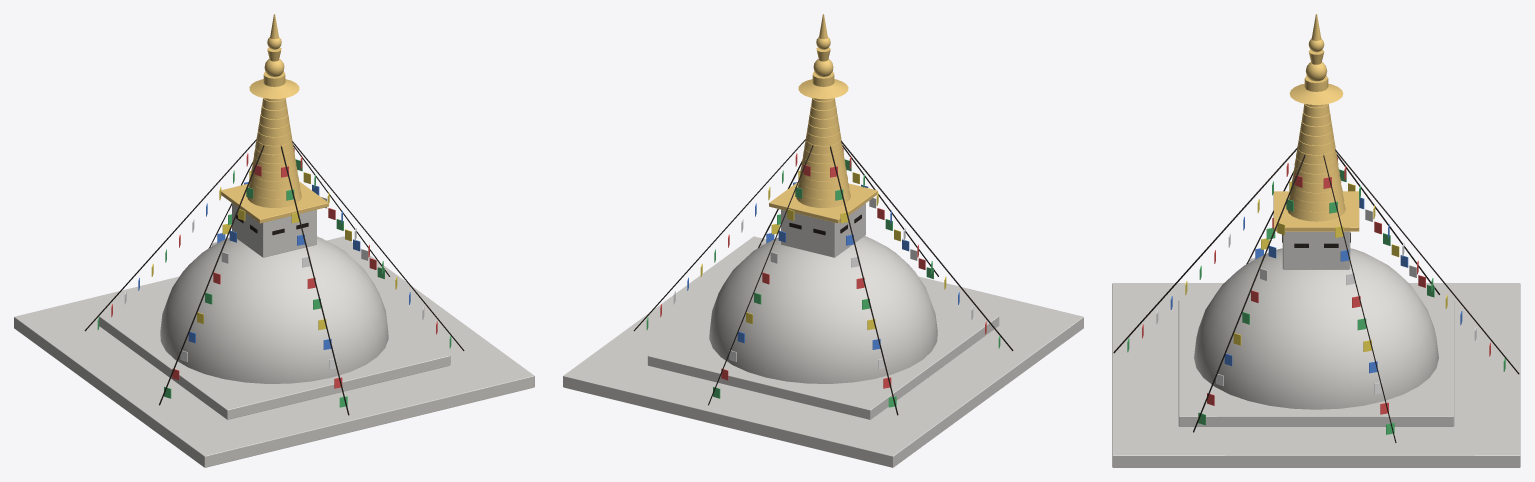
The model's file is stupa_small.glb.
The picture shows the model from 3 angles, left to right: view 1: azimuth 30°, elevation 25°; view 2: azimuth 150°, elevation 25°; view 3: azimuth 270°, elevation 25°; orthographic projection. The views are drawn at different scales.
Parts seen in each view (by area): view 1: stupa_small; view 2: stupa_small; view 3: stupa_small.
Boxes of the visible parts, x1,y1,x2,y2 form: stupa_small: [14, 14, 534, 467]; stupa_small: [563, 14, 1083, 467]; stupa_small: [1112, 14, 1520, 467].
Bounding box in the file's own units: 1 × 0.9938 × 1.
